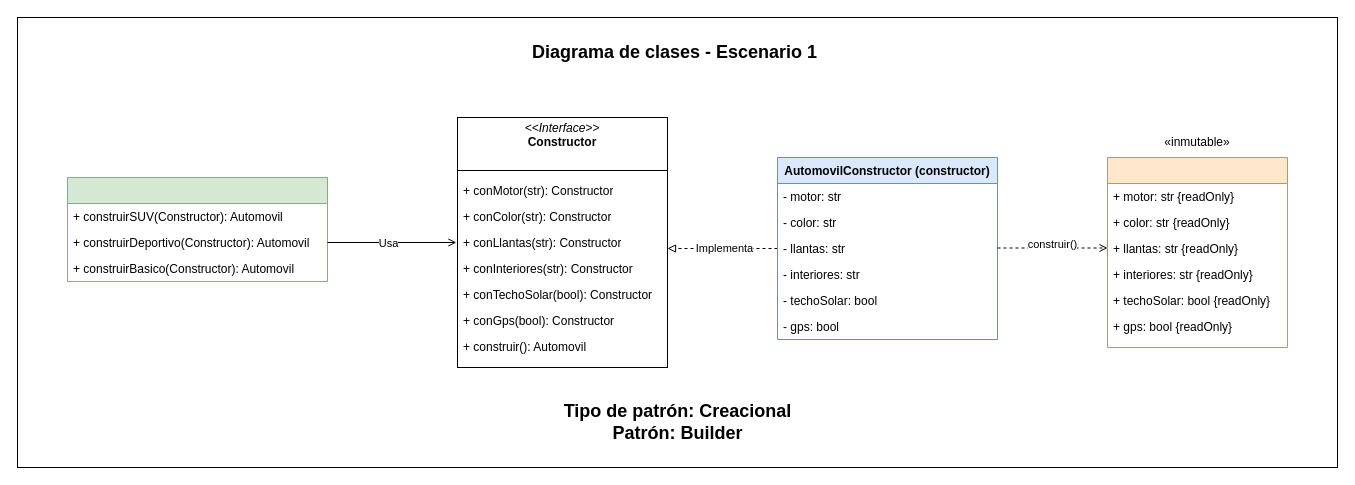
The diagram is 1355 pixels wide and 485 high, and some of its shapes have lost their labels. Here are the shapes that lost their labels. From the top down, the box of each, then its label:
(66, 176, 328, 282): Concesionario (director)
(1106, 156, 1288, 348): Automovil (producto)
